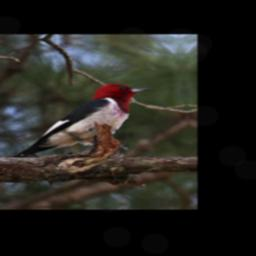Woodpecker: (0, 81, 162, 158)
